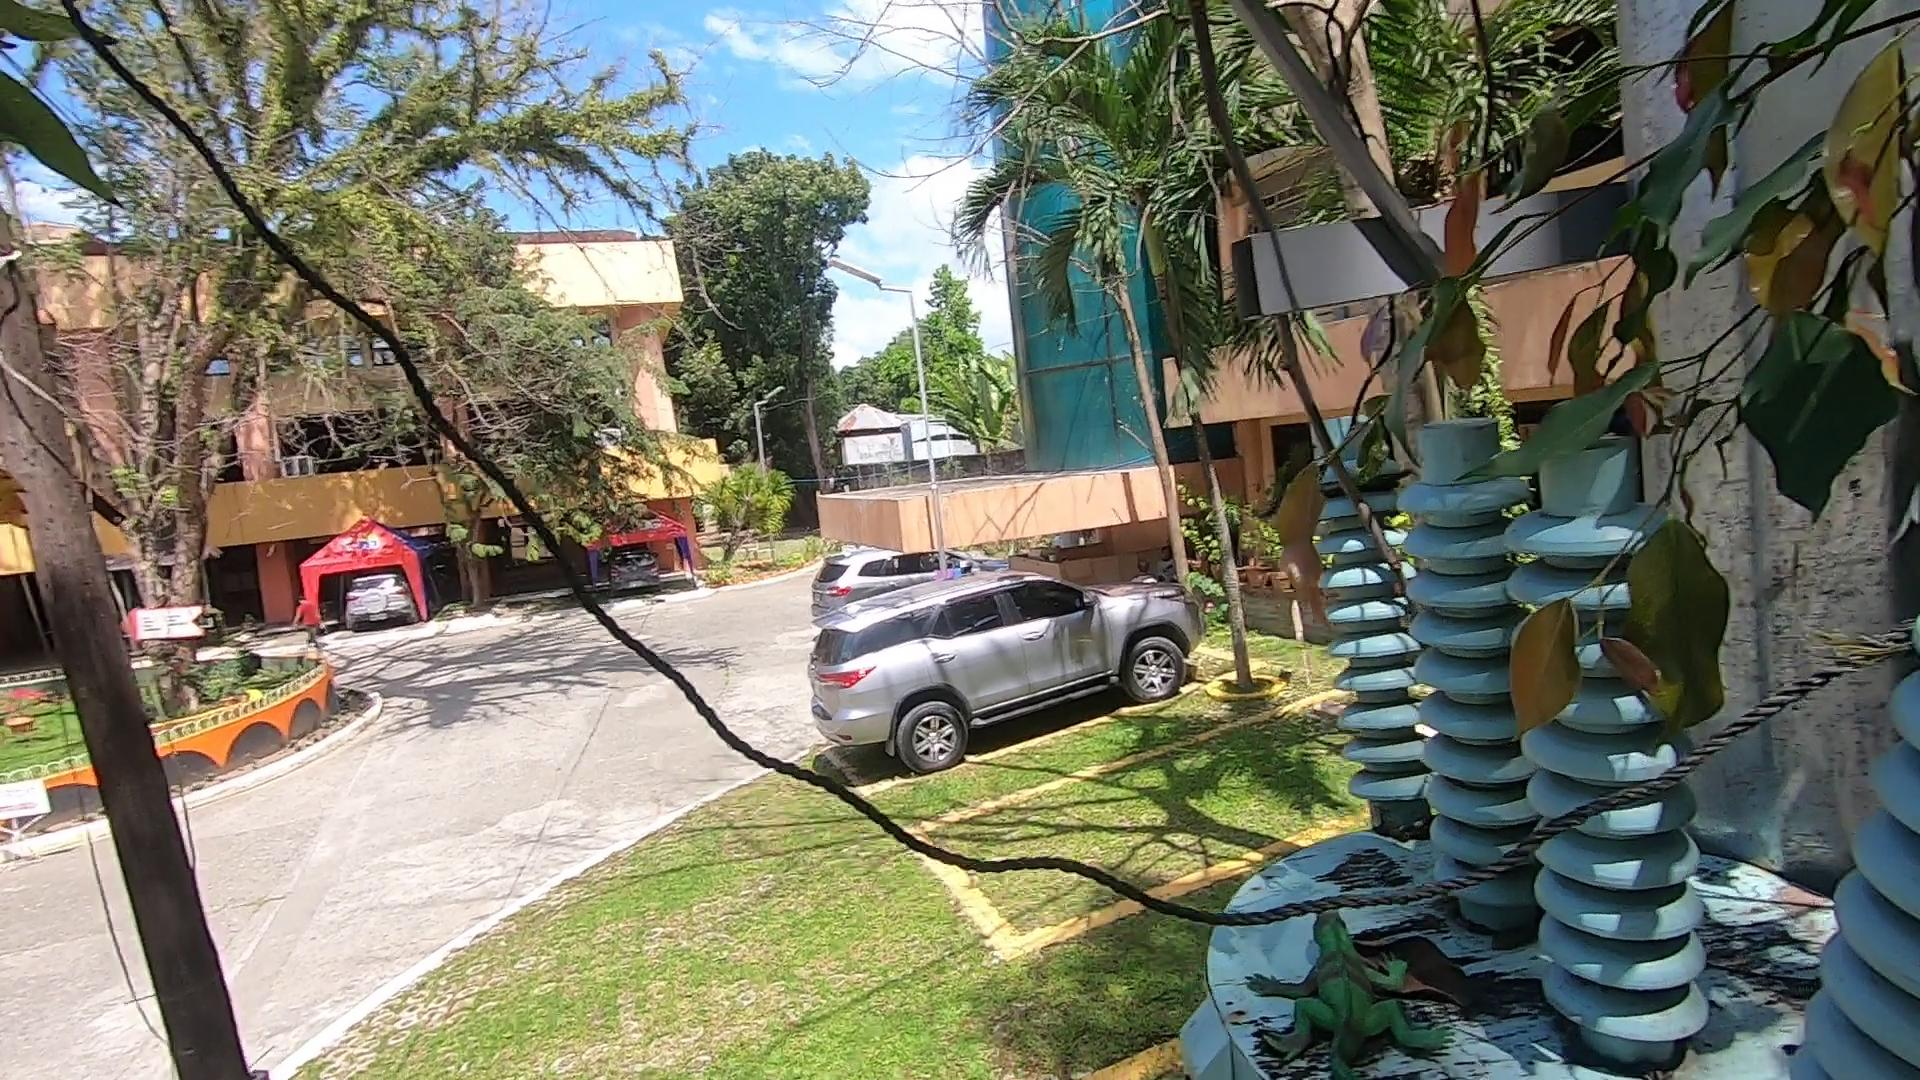branch with leaves: (1336, 25, 1869, 750)
tree branch: (1158, 5, 1456, 637)
